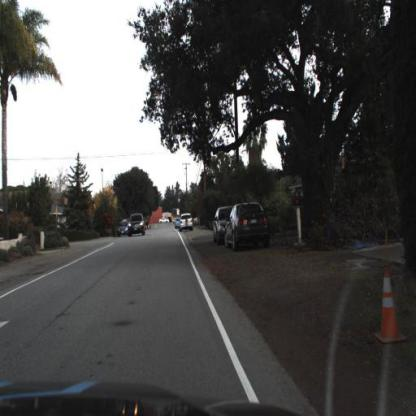car: (227, 200, 276, 252), (215, 202, 241, 243), (129, 214, 147, 241), (178, 212, 194, 232)
